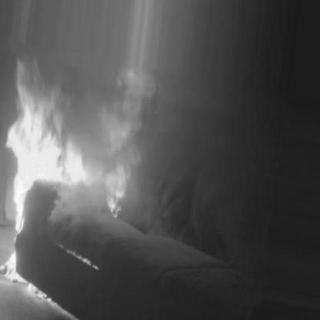Fire: (1, 52, 143, 312)
